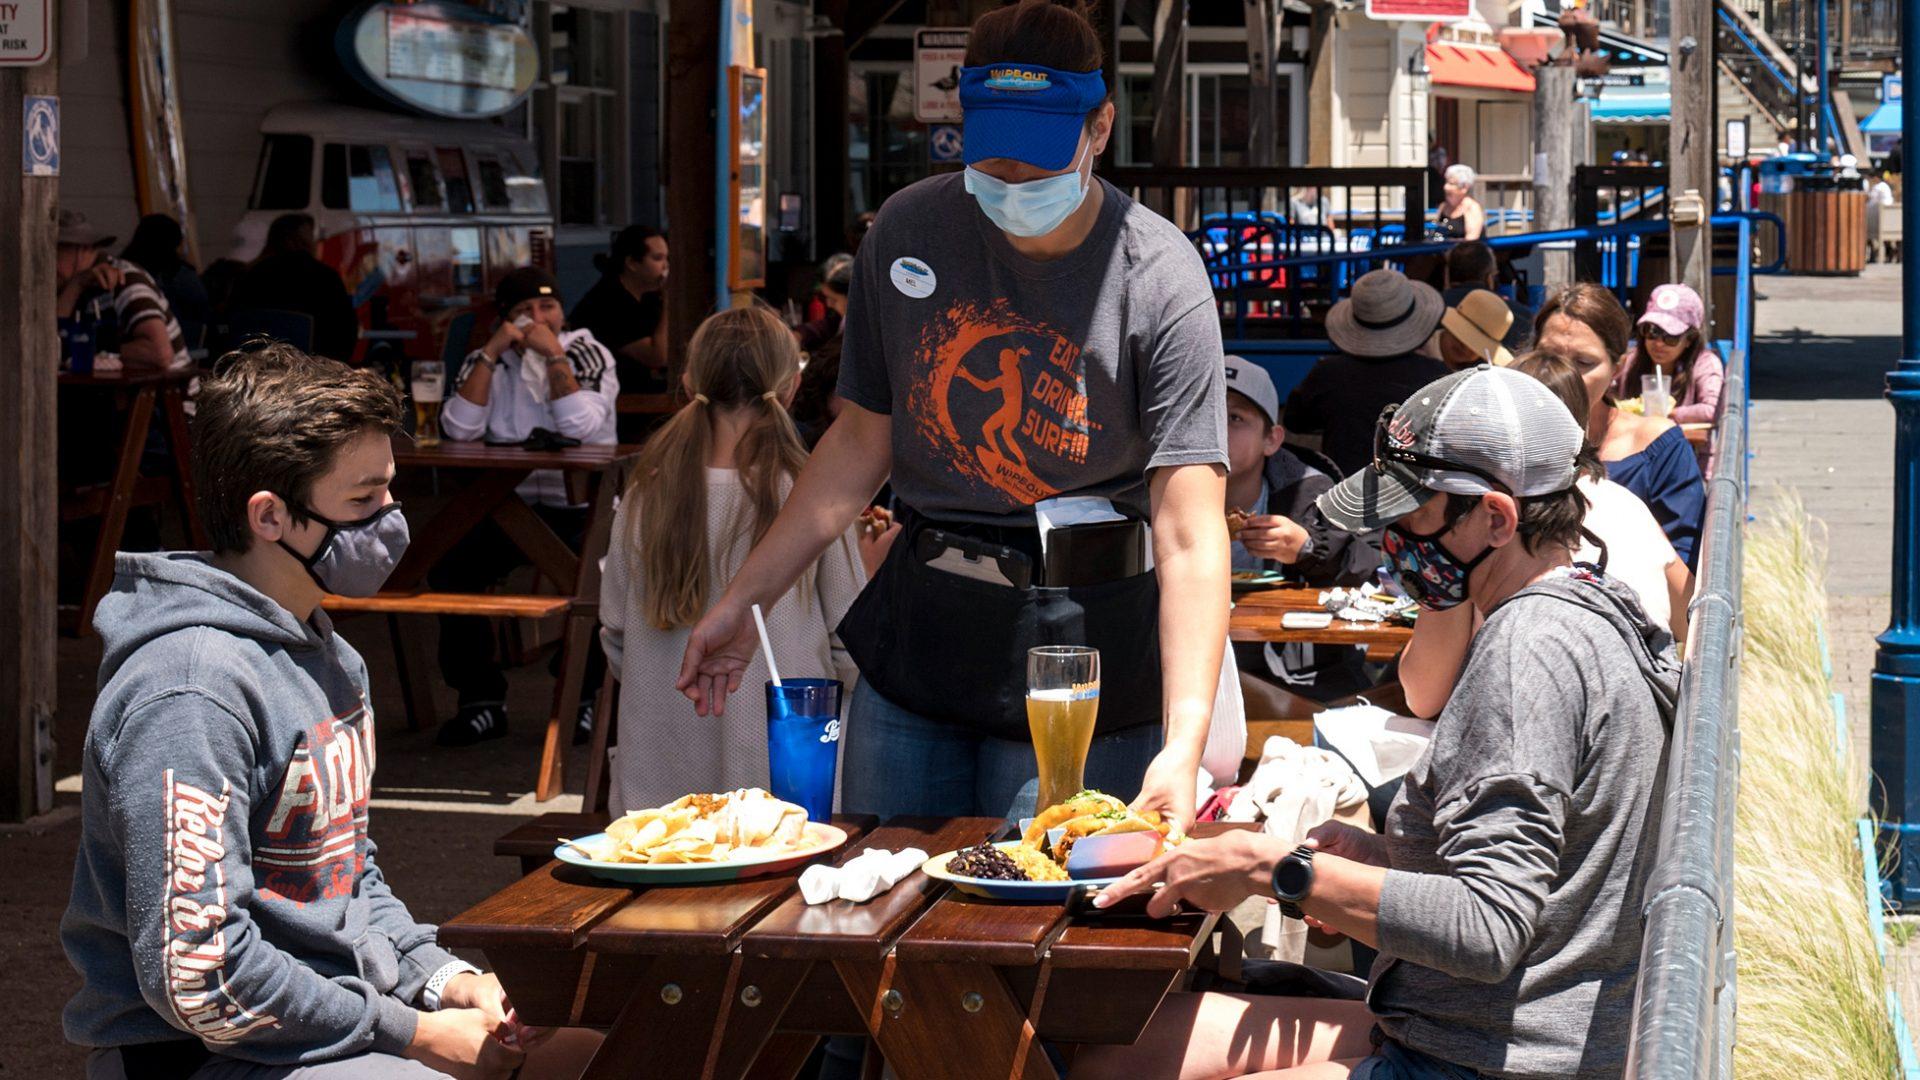with_mask: (274, 456, 408, 585), (1376, 499, 1483, 608), (971, 139, 1089, 234)
